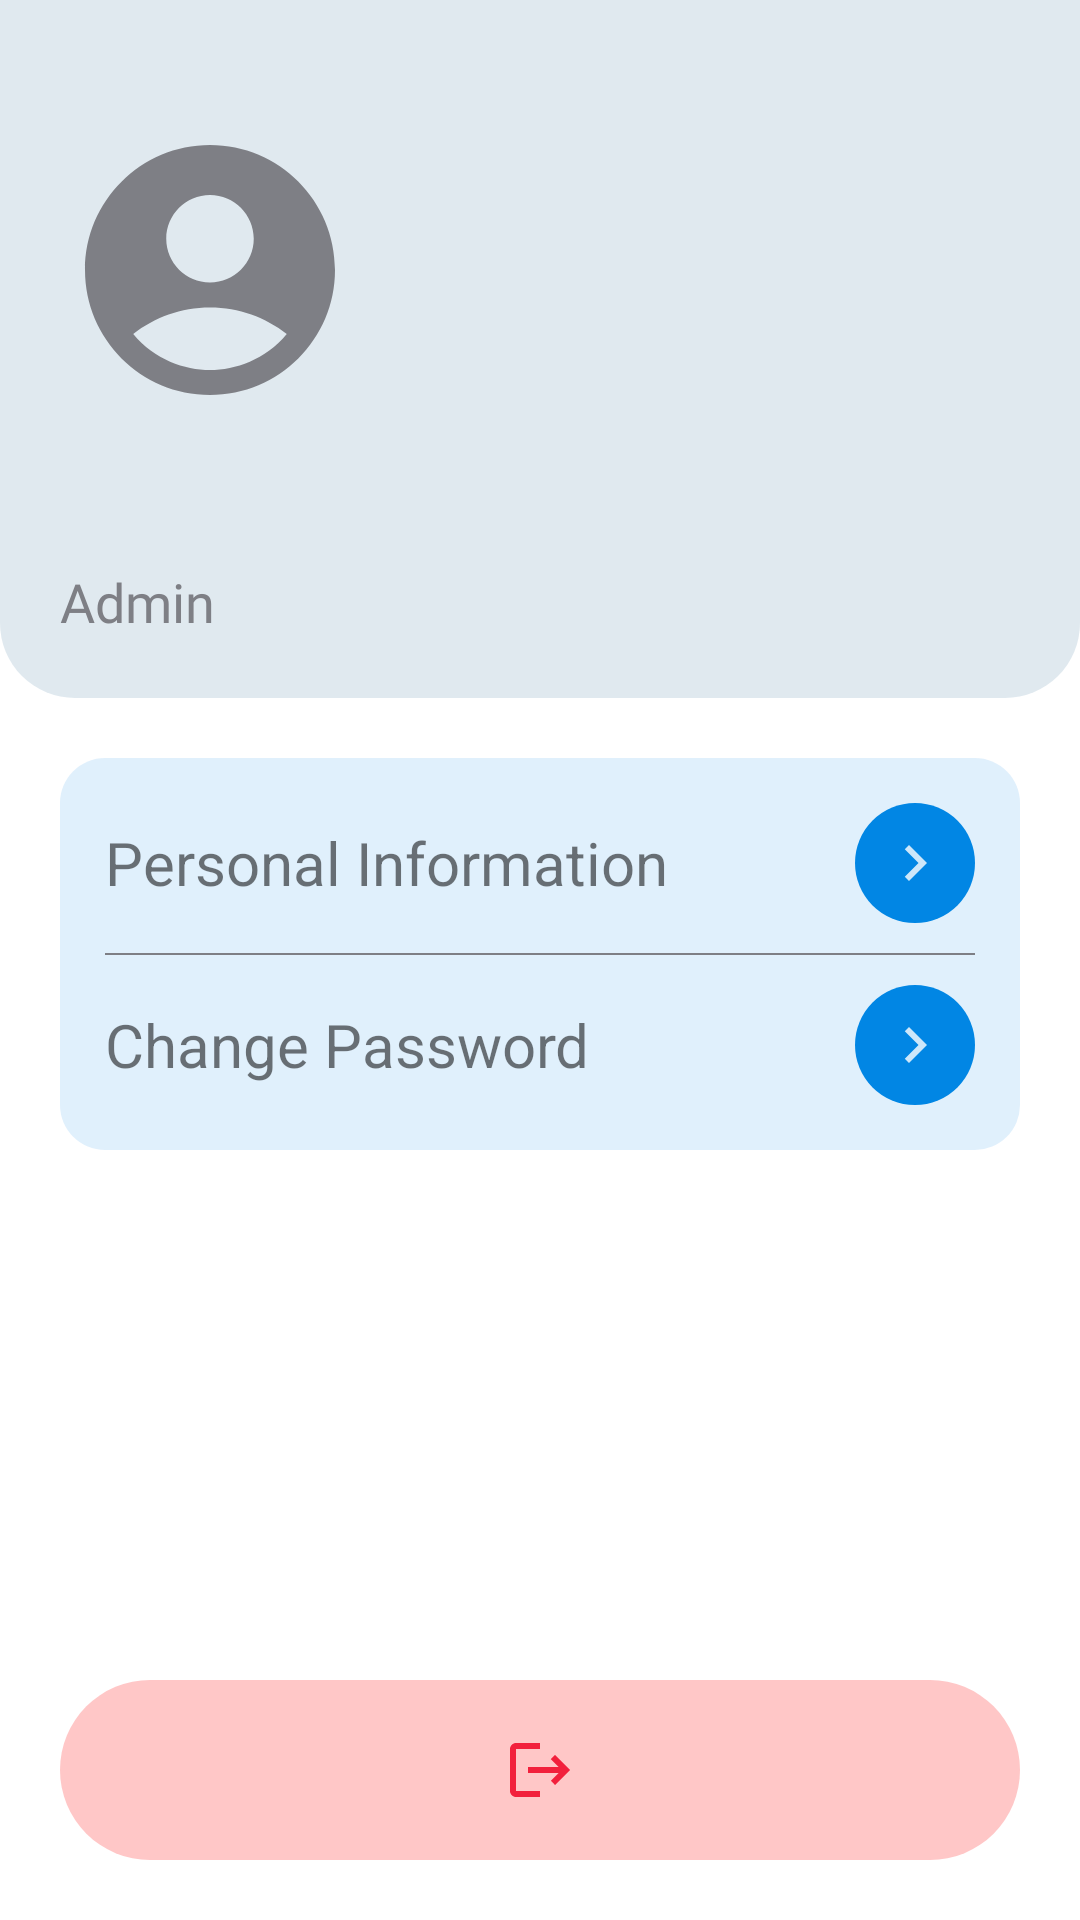

Point at icon controls on the screen. Image size 1080px×1920px, points as (x=x, y=y).
next: (x=915, y=863), (x=915, y=1045)
profile: (x=210, y=270)
